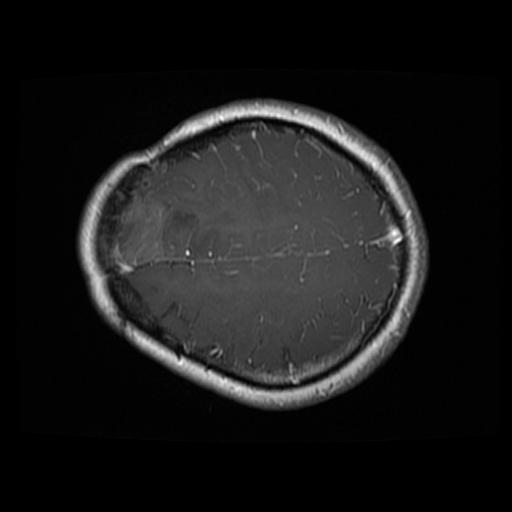glioma: (113, 172, 229, 270)
